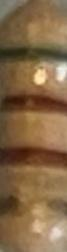Brown: (0, 144, 66, 171), (2, 93, 67, 117)
Green: (0, 44, 67, 65)
Side-Gold: (1, 194, 65, 220)
